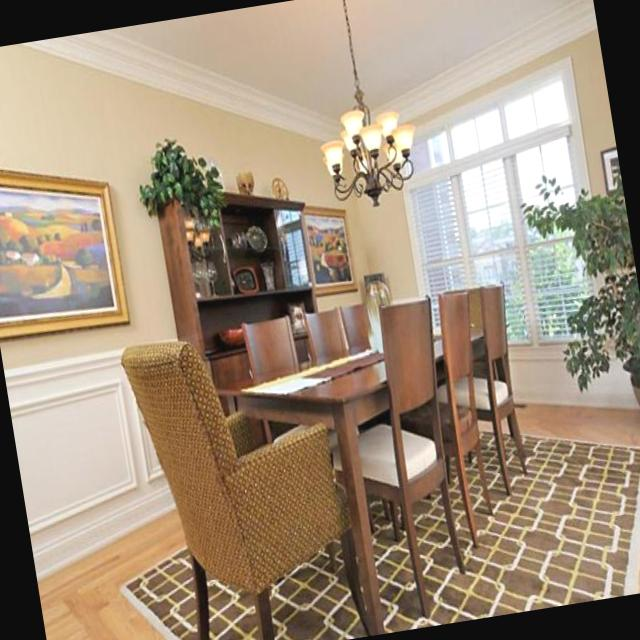carpet: (104, 401, 640, 640)
chair: (120, 313, 372, 640)
cupboard: (155, 173, 342, 454)
plants: (514, 155, 640, 450), (130, 128, 232, 242)
pots: (623, 352, 640, 437)
table: (215, 321, 545, 640)
window: (386, 54, 616, 367)
